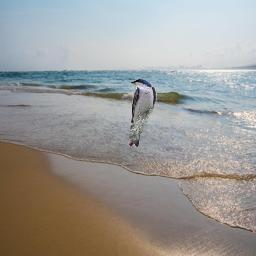Swallow: (127, 78, 157, 147)
